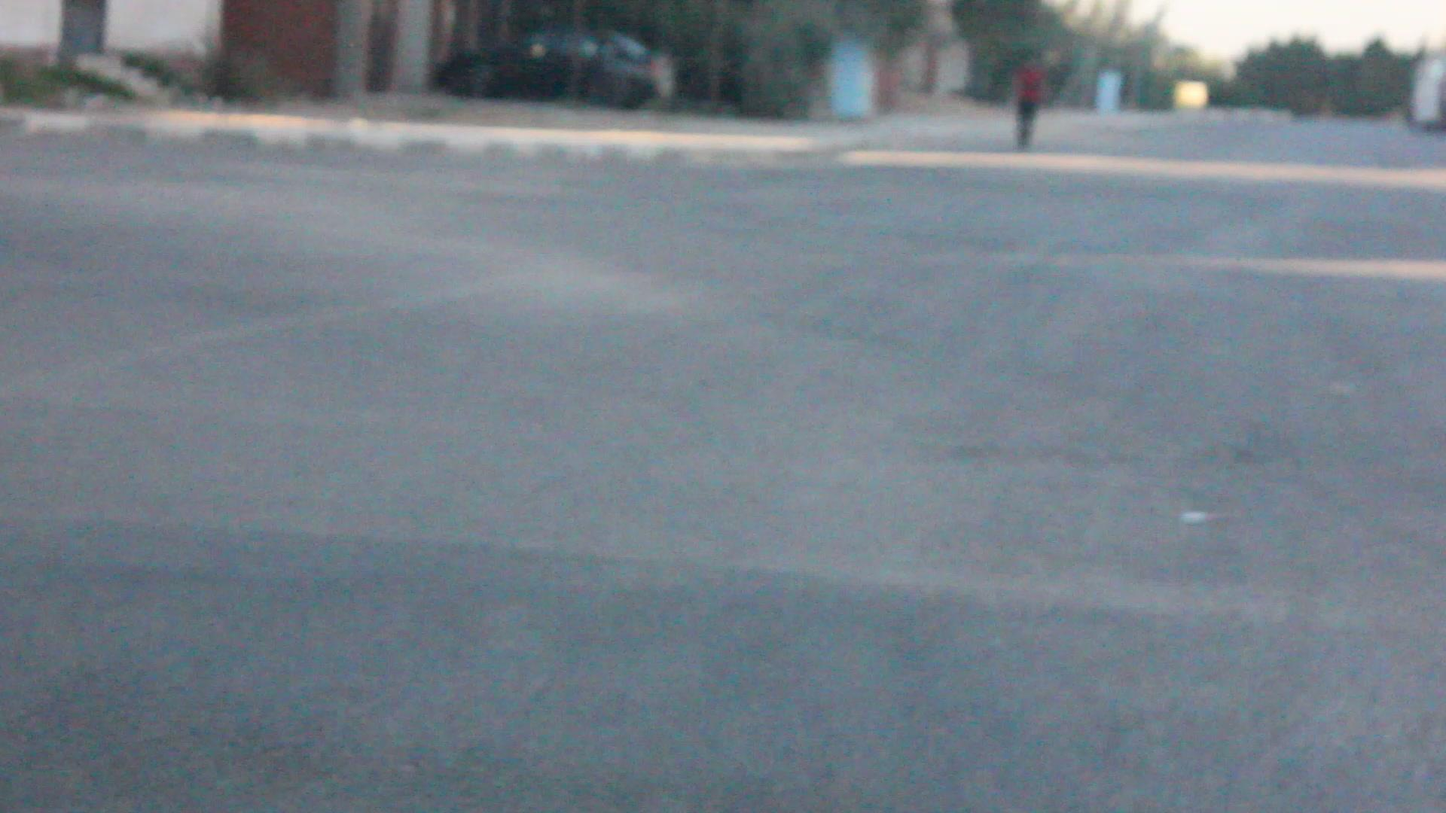Bump: (6, 519, 1446, 813)
